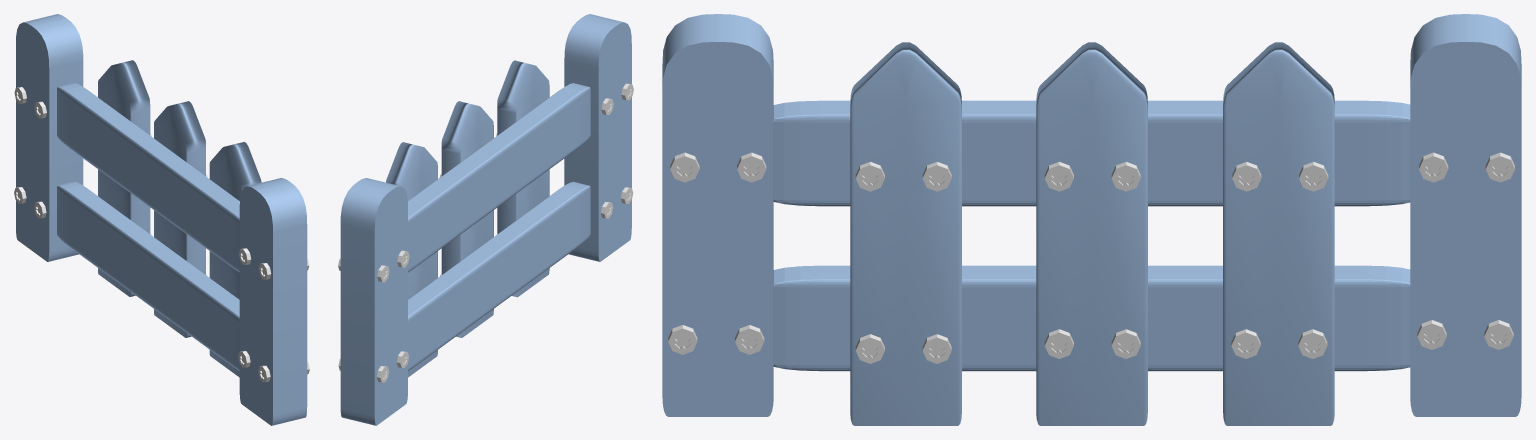
Rendered from vallaAZUL1FINAL.fbx.
The picture shows the model from 3 angles, left to right: view 1: azimuth 30°, elevation 25°; view 2: azimuth 150°, elevation 25°; view 3: azimuth 270°, elevation 25°; orthographic projection. The views are drawn at different scales.
Visible parts, largest first — view 1: Cube.005, Cube.004, Cube.003, Cube.007, Cube.002, Cube, Cube.001; view 2: Cube.007, Cube.003, Cube.004, Cube.005, Cube, Cube.001, Cube.002; view 3: Cube.007, Cube.005, Cube.002, Cube.001, Cube, Cube.004, Cube.003.
Boxes of the visible parts, x1=… form: Cube.005: x1=239, y1=178, x2=307, y2=425; Cube.004: x1=57, y1=82, x2=239, y2=272; Cube.003: x1=57, y1=181, x2=239, y2=370; Cube.007: x1=16, y1=14, x2=83, y2=261; Cube.002: x1=98, y1=60, x2=150, y2=296; Cube: x1=154, y1=101, x2=205, y2=337; Cube.001: x1=209, y1=142, x2=261, y2=377; Cube.007: x1=340, y1=178, x2=407, y2=425; Cube.003: x1=408, y1=182, x2=590, y2=370; Cube.004: x1=408, y1=83, x2=590, y2=272; Cube.005: x1=564, y1=14, x2=631, y2=261; Cube: x1=441, y1=101, x2=493, y2=337; Cube.001: x1=497, y1=60, x2=549, y2=297; Cube.002: x1=386, y1=142, x2=437, y2=377; Cube.007: x1=1410, y1=14, x2=1521, y2=416; Cube.005: x1=662, y1=14, x2=773, y2=416; Cube.002: x1=1223, y1=42, x2=1334, y2=425; Cube.001: x1=850, y1=42, x2=961, y2=425; Cube: x1=1036, y1=42, x2=1147, y2=425; Cube.004: x1=773, y1=100, x2=1410, y2=206; Cube.003: x1=773, y1=265, x2=1410, y2=371.
Bounding box in the file's own units: 50.11 × 201 × 417.
